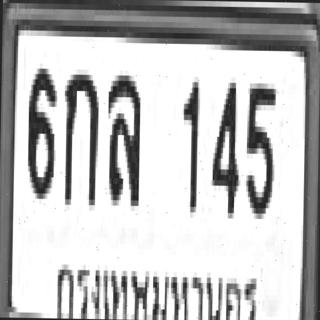A01: (61, 64, 97, 200)
A36: (105, 69, 139, 200)
N01: (180, 74, 198, 210)
N04: (210, 74, 238, 210)
N05: (244, 78, 274, 214)
N06: (25, 63, 55, 194)
P04: (51, 253, 262, 320)
